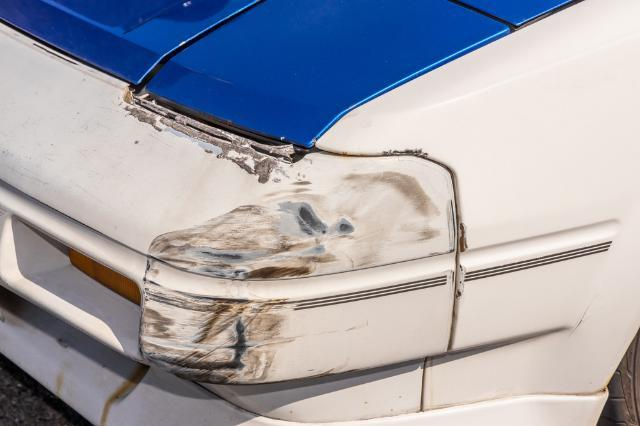rub: (117, 96, 447, 387)
